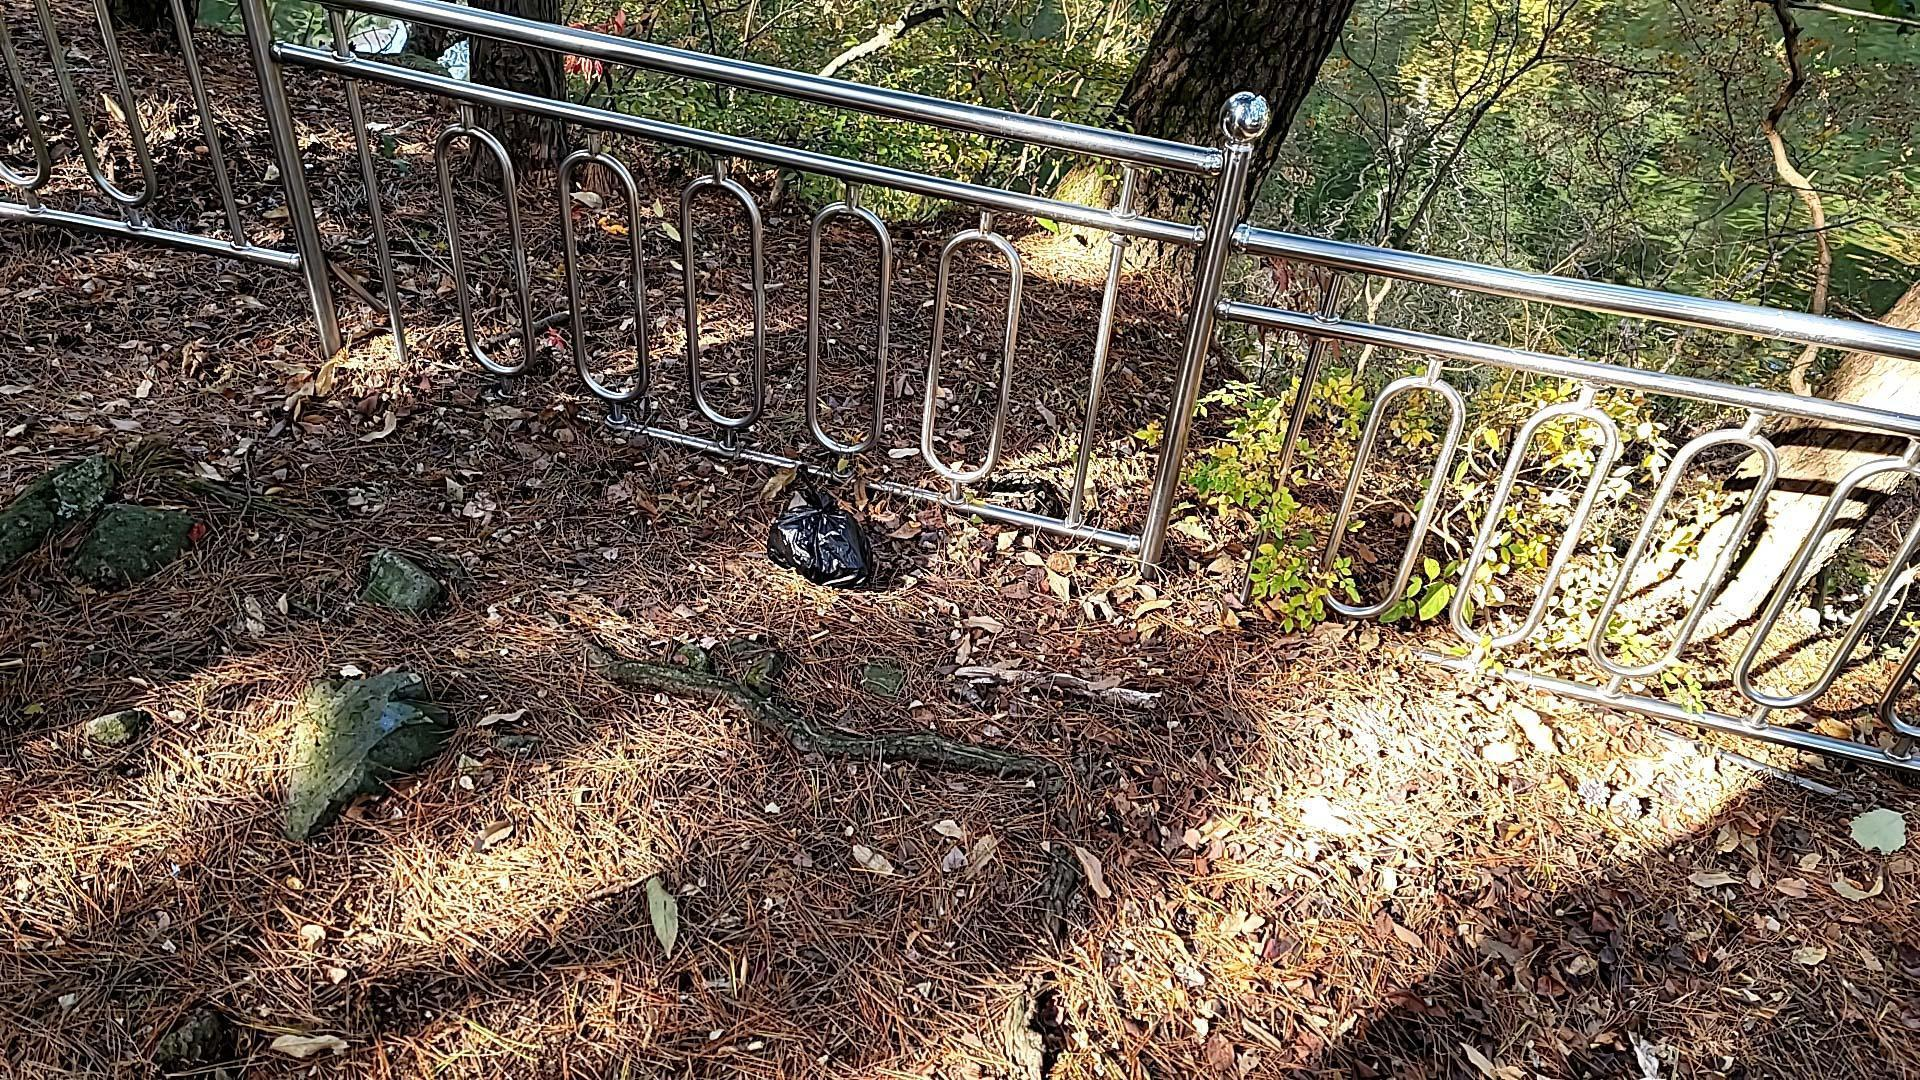white_bag: (758, 454, 887, 595)
